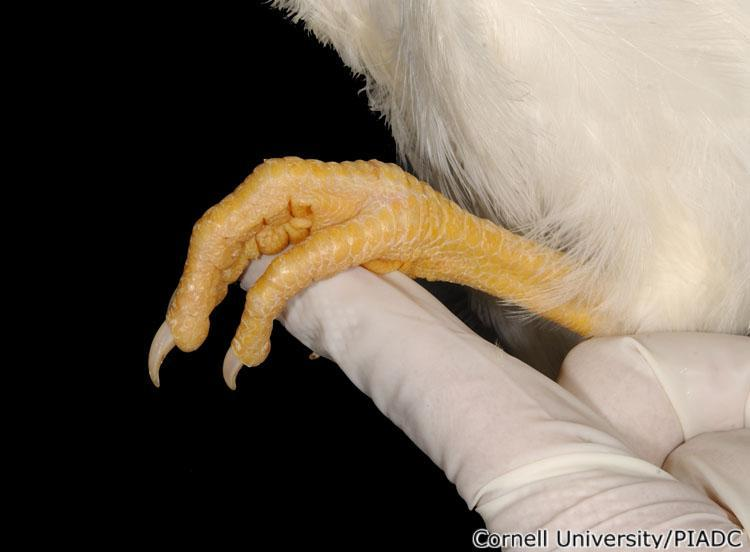AbNormal: (145, 1, 750, 391)
